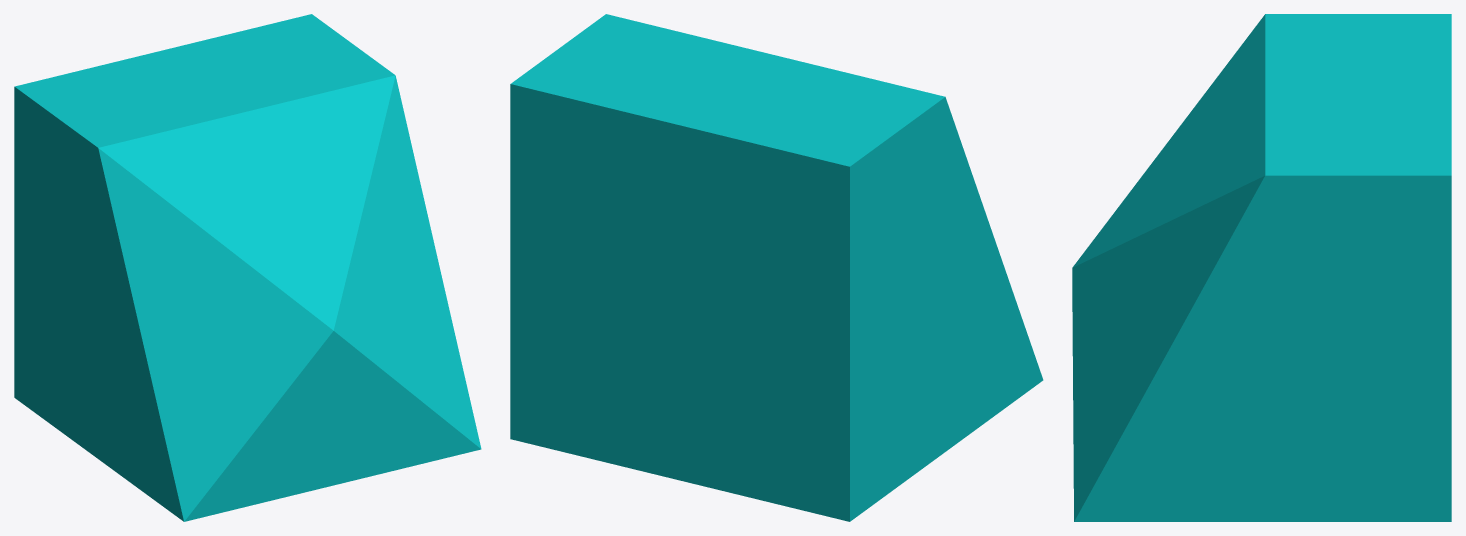
The model's file is AL3_Player.obj.
3 views of the same model, side by side, from view 1: azimuth 30°, elevation 25°; view 2: azimuth 150°, elevation 25°; view 3: azimuth 270°, elevation 25° (orthographic). The views are drawn at different scales.
Parts seen in each view (by area): view 1: 立方体; view 2: 立方体; view 3: 立方体.
Part boxes in pixels (<box>): 立方体: <box>14,14,481,521</box>; 立方体: <box>510,14,1043,521</box>; 立方体: <box>1072,14,1451,521</box>.
Size of the model in its own units: 2 by 2 by 1.99.
